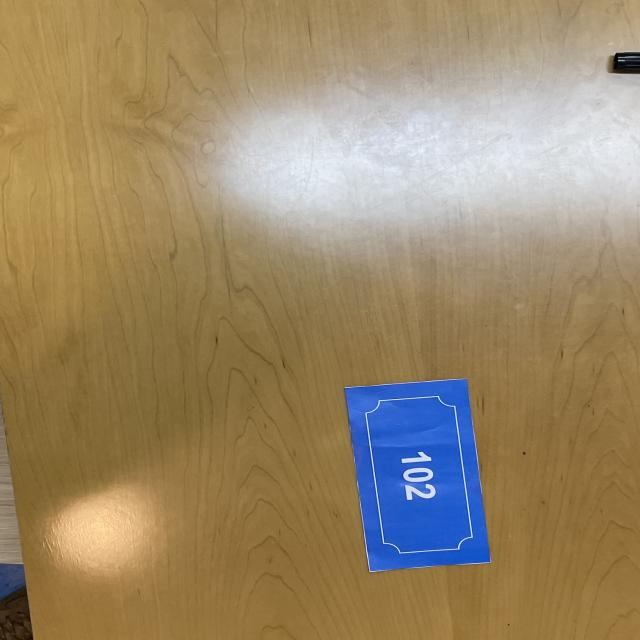Card: (332, 347, 512, 586)
